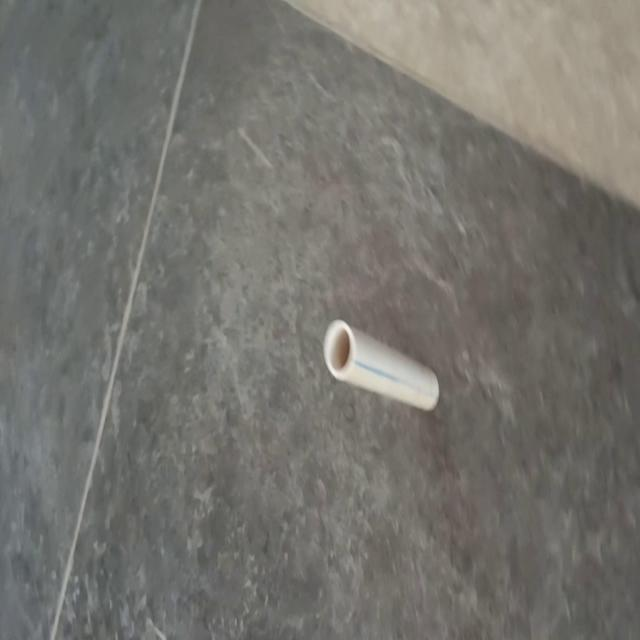Cube: (322, 318, 440, 412)
